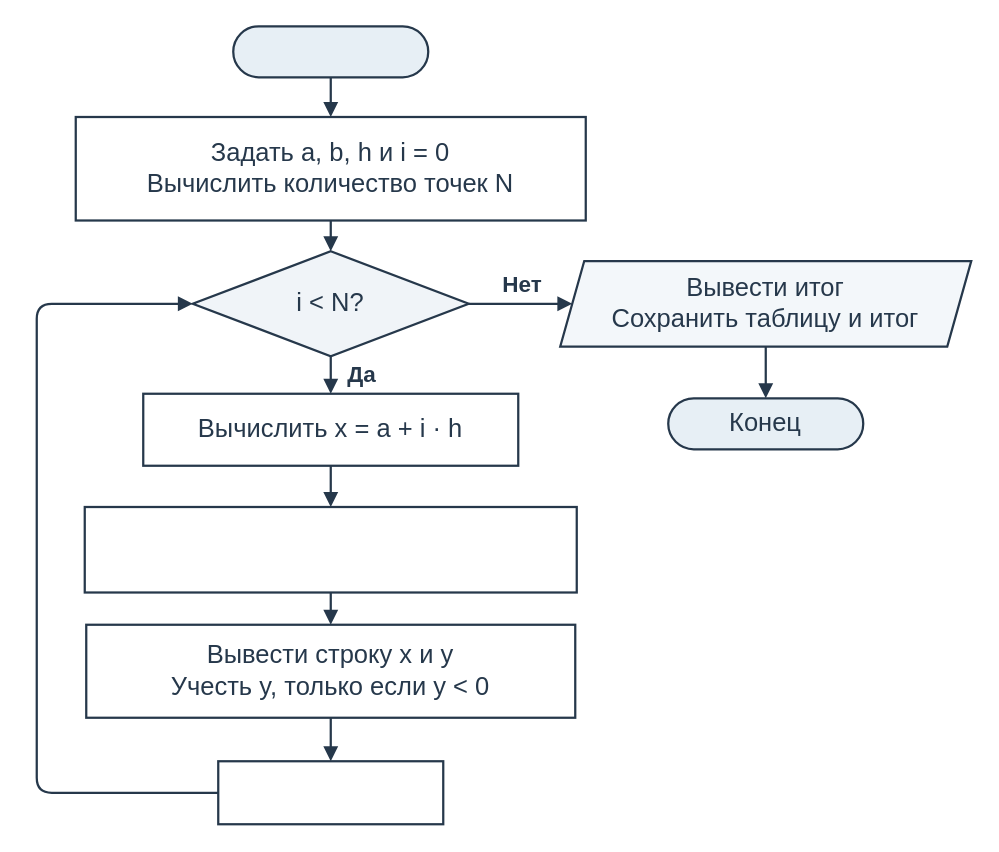
The diagram is 999 pixels wide and 852 high, and some of its shapes have lost their labels. The shapes that lost their labels are listed below. From the top down, each one's centre as x and y in pixels, then its label:
At (330,51): "Начало".
At (330,549): "Вычислить y по формуле варианта Проверить, задана ли ветвь".
At (330,792): "i = i + 1".
